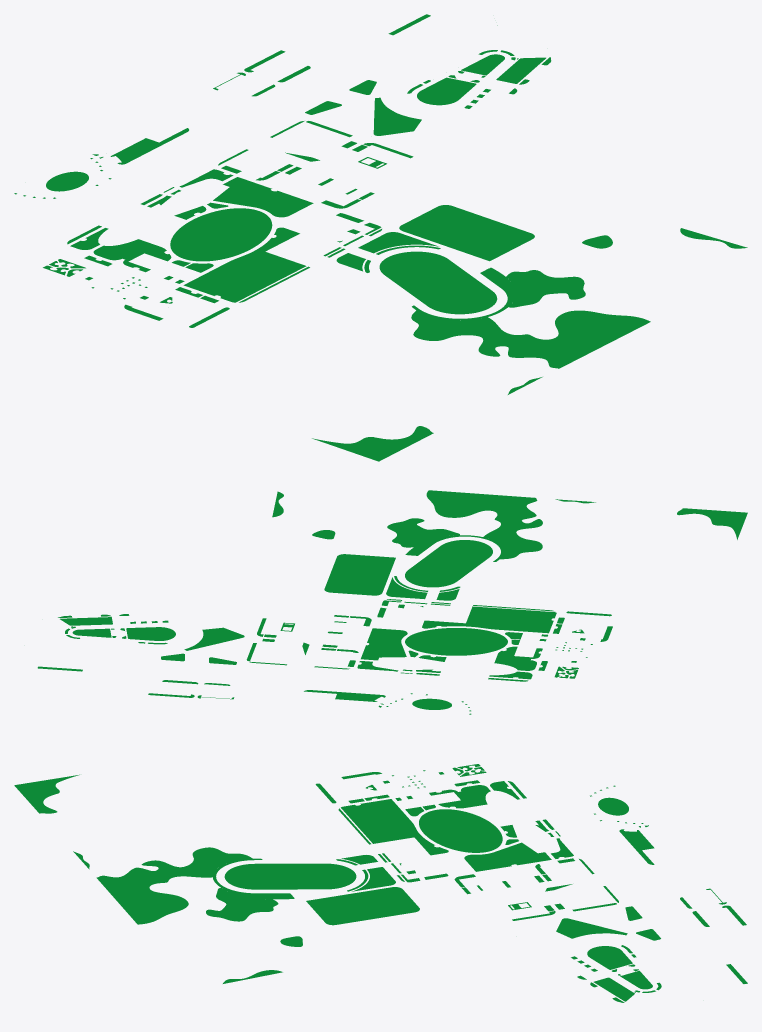
The picture shows the model from 3 angles, top to bottom: view 1: azimuth 30°, elevation 25°; view 2: azimuth 150°, elevation 25°; view 3: azimuth 270°, elevation 25°; orthographic projection. The views are drawn at different scales.
Parts seen in each view (by area): view 1: cay_xanh; view 2: cay_xanh; view 3: cay_xanh.
Part boxes in pixels (x1,y1,x2,y2): cay_xanh: (14,14,747,461); cay_xanh: (37,490,747,714); cay_xanh: (14,764,747,1002).
Size of the model in its own units: 771 by 0 by 878.
